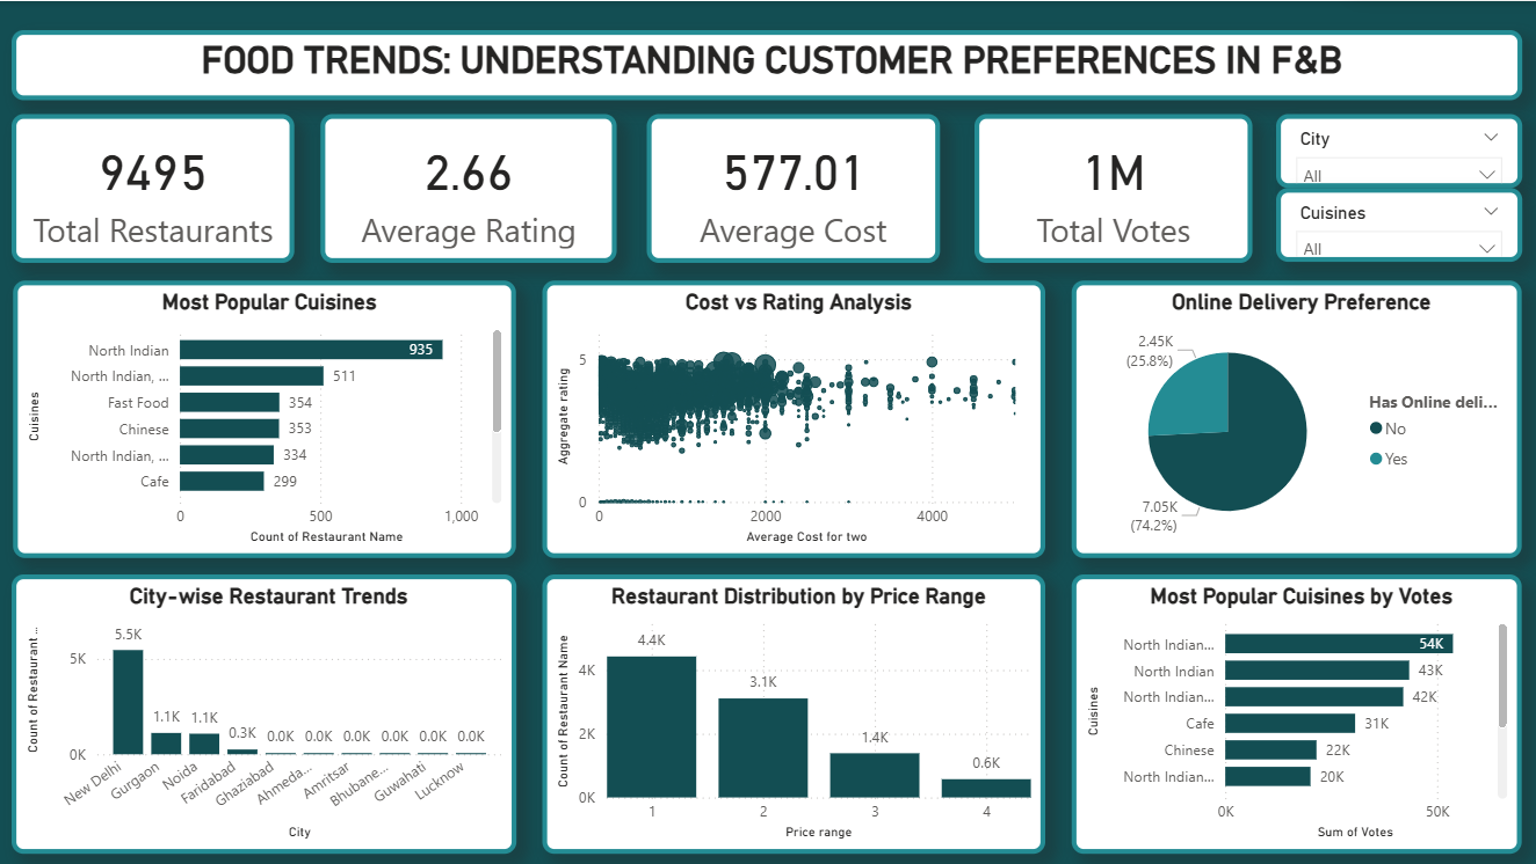

Layout of this report page (visuals, bound fields, positions):
{"tool":"powerbi","page":{"name":"Page 1","canvas":[1280,720],"ordinal":0},"visuals":[{"type":"textbox","title":"FOOD TRENDS: UNDERSTANDING CUSTOMER PREFERENCES IN F&B","box":[9.3,24.4,1257,58.1],"z":0},{"type":"card","fields":{"Values":["zomato.Total Restaurants"]},"box":[9.6,93.6,235.4,123.9],"z":1000},{"type":"card","fields":{"Values":["zomato.Average Rating"]},"box":[267.1,93.6,246.4,123.9],"z":2000},{"type":"card","fields":{"Values":["zomato.Total Votes"]},"box":[810.8,93.6,231.3,123.9],"z":3000},{"type":"card","fields":{"Values":["zomato.Average Cost"]},"box":[538.3,93.6,243.7,123.9],"z":4000},{"type":"clusteredBarChart","title":"Most Popular Cuisines","fields":{"Category":["zomato.Cuisines"],"Y":["CountNonNull(zomato.Restaurant Name)"]},"box":[11,232.7,418.5,231.3],"z":5000},{"type":"clusteredColumnChart","title":"City-wise Restaurant Trends","fields":{"Category":["zomato.City"],"Y":["CountNonNull(zomato.Restaurant Name)"]},"box":[9.6,477.7,419.9,232.7],"z":6000},{"type":"scatterChart","title":"Cost vs Rating Analysis","fields":{"X":["zomato.Average Cost for two"],"Y":["zomato.Aggregate rating"],"Size":["Sum(zomato.Votes)"]},"box":[451.5,232.7,418.5,231.3],"z":7000},{"type":"pieChart","title":"Online Delivery Preference","fields":{"Category":["zomato.Has Online delivery"],"Y":["CountNonNull(zomato.Restaurant Name)"]},"box":[892.1,232.7,374.4,231.3],"z":8000},{"type":"clusteredColumnChart","title":"Restaurant Distribution by Price Range","fields":{"Category":["zomato.Price range"],"Y":["CountNonNull(zomato.Restaurant Name)"]},"box":[451.5,477.7,418.5,232.7],"z":9000},{"type":"clusteredBarChart","title":"Most Popular Cuisines by Votes","fields":{"Category":["zomato.Cuisines"],"Y":["Sum(zomato.Votes)"]},"box":[892.1,477.7,374.4,232.7],"z":10000},{"type":"slicer","fields":{"Values":["zomato.City"]},"box":[1061.4,93.6,205.1,61.9],"z":11000},{"type":"slicer","fields":{"Values":["zomato.Cuisines"]},"box":[1061.4,155.6,205.1,61.9],"z":12000}]}

Visuals, with their boxes in screenshot pixels (x1, y1, x2, y2), scaled from the page's 1280x720 canvas onto the 1536x864 screenshot:
"FOOD TRENDS: UNDERSTANDING CUSTOMER PREFERENCES IN F&B" textbox: select_region(11, 29, 1520, 99)
card - zomato.Total Restaurants: select_region(12, 112, 294, 261)
card - zomato.Average Rating: select_region(321, 112, 616, 261)
card - zomato.Total Votes: select_region(973, 112, 1251, 261)
card - zomato.Average Cost: select_region(646, 112, 938, 261)
"Most Popular Cuisines" clusteredBarChart: select_region(13, 279, 515, 557)
"City-wise Restaurant Trends" clusteredColumnChart: select_region(12, 573, 515, 852)
"Cost vs Rating Analysis" scatterChart: select_region(542, 279, 1044, 557)
"Online Delivery Preference" pieChart: select_region(1071, 279, 1520, 557)
"Restaurant Distribution by Price Range" clusteredColumnChart: select_region(542, 573, 1044, 852)
"Most Popular Cuisines by Votes" clusteredBarChart: select_region(1071, 573, 1520, 852)
slicer - zomato.City: select_region(1274, 112, 1520, 187)
slicer - zomato.Cuisines: select_region(1274, 187, 1520, 261)
